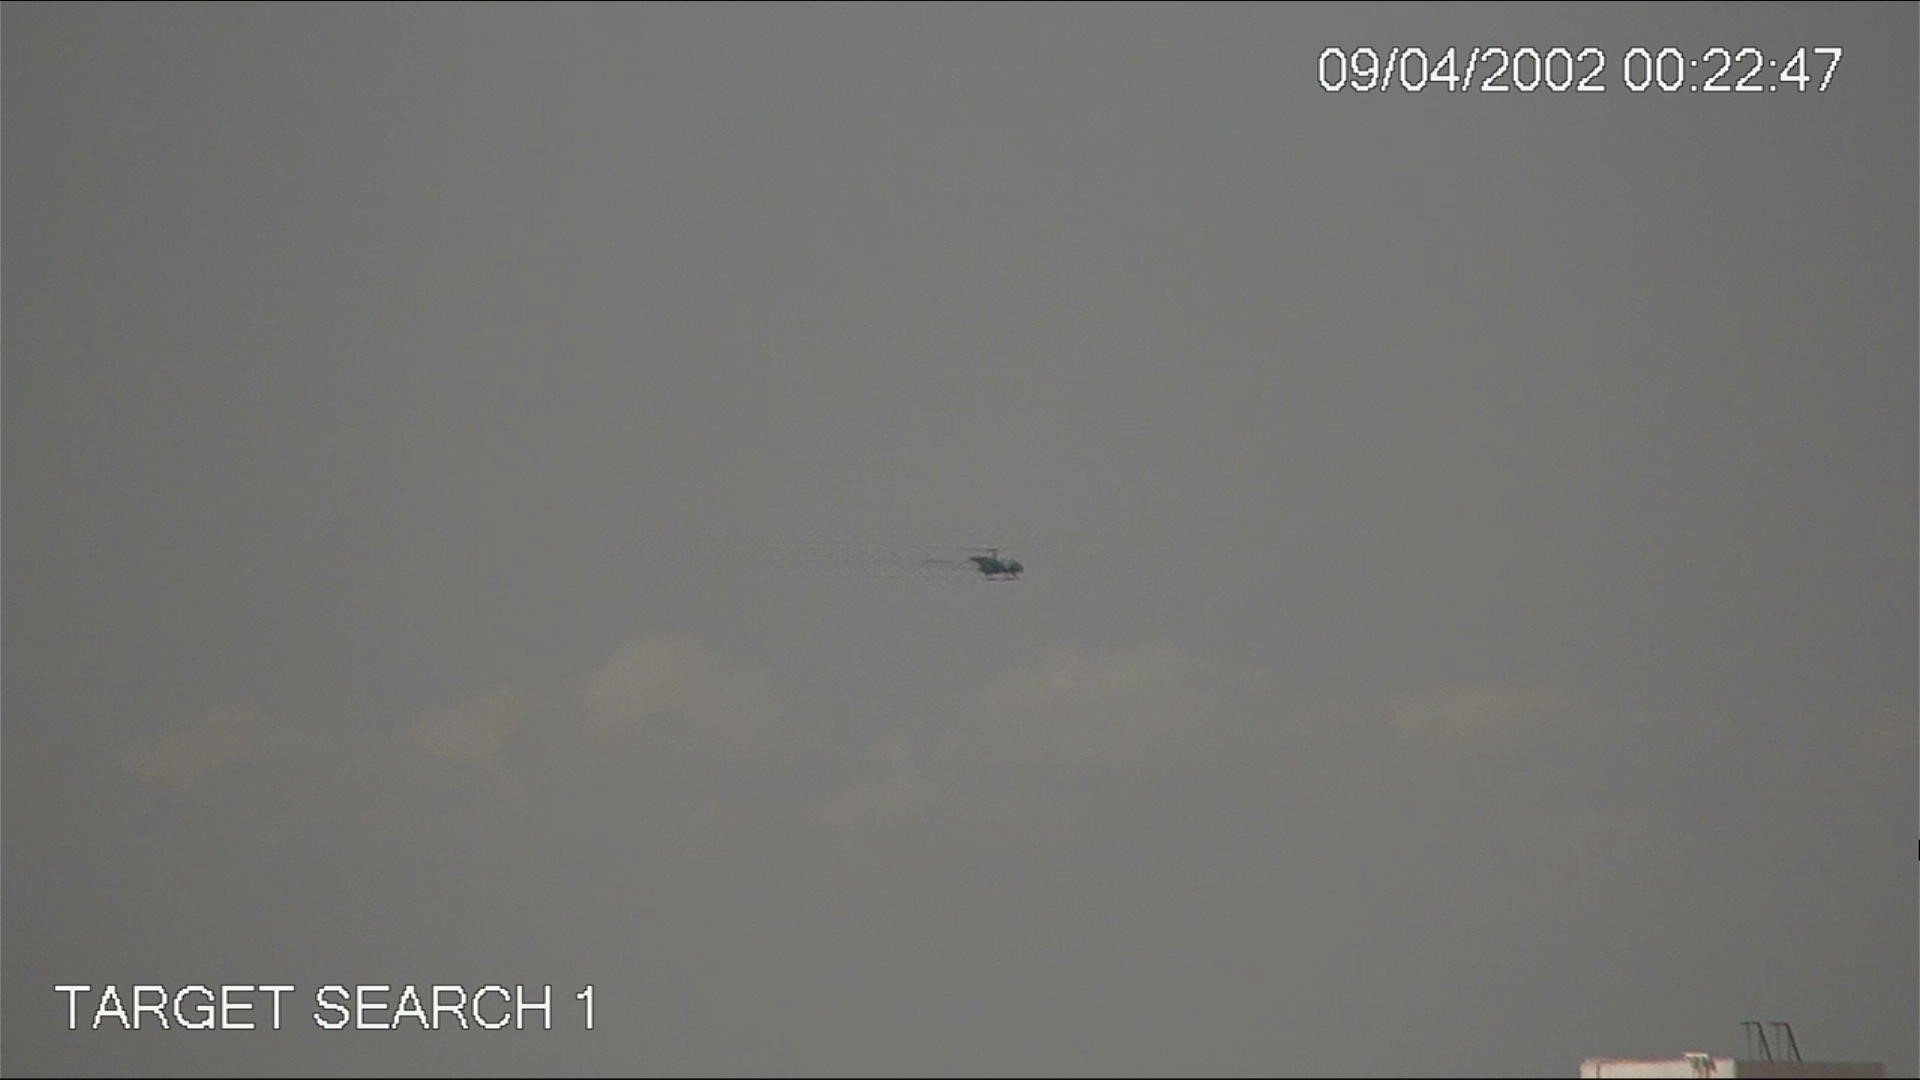SU_30: (918, 539, 1036, 589)
